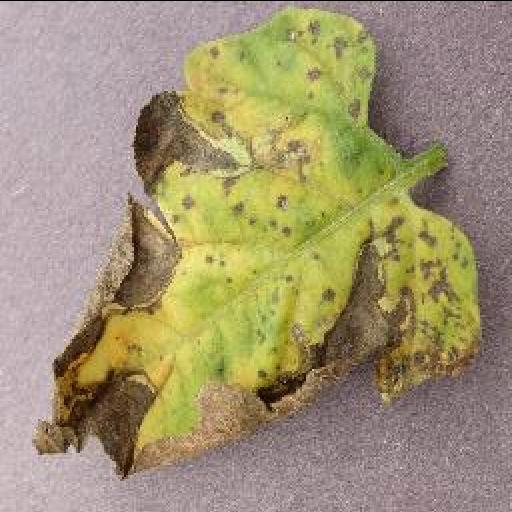disease_tomato: (34, 2, 482, 474)
